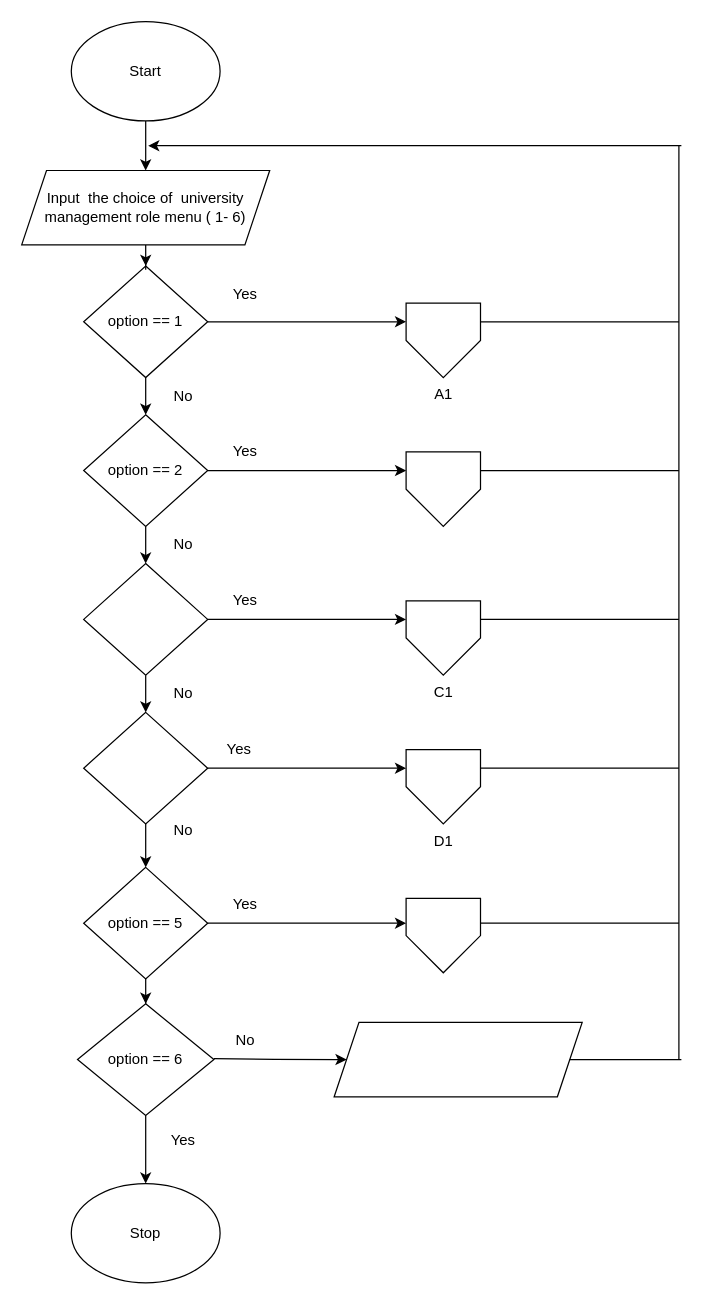
This 713x1304 diagram has some shape labels left out. Each missing label, with the centre of its shape:
B1: [442,488]
E1: [442,935]
option == 3: [145,618]
option == 4: [145,767]
Print "there is no such optiion': [457,1059]
